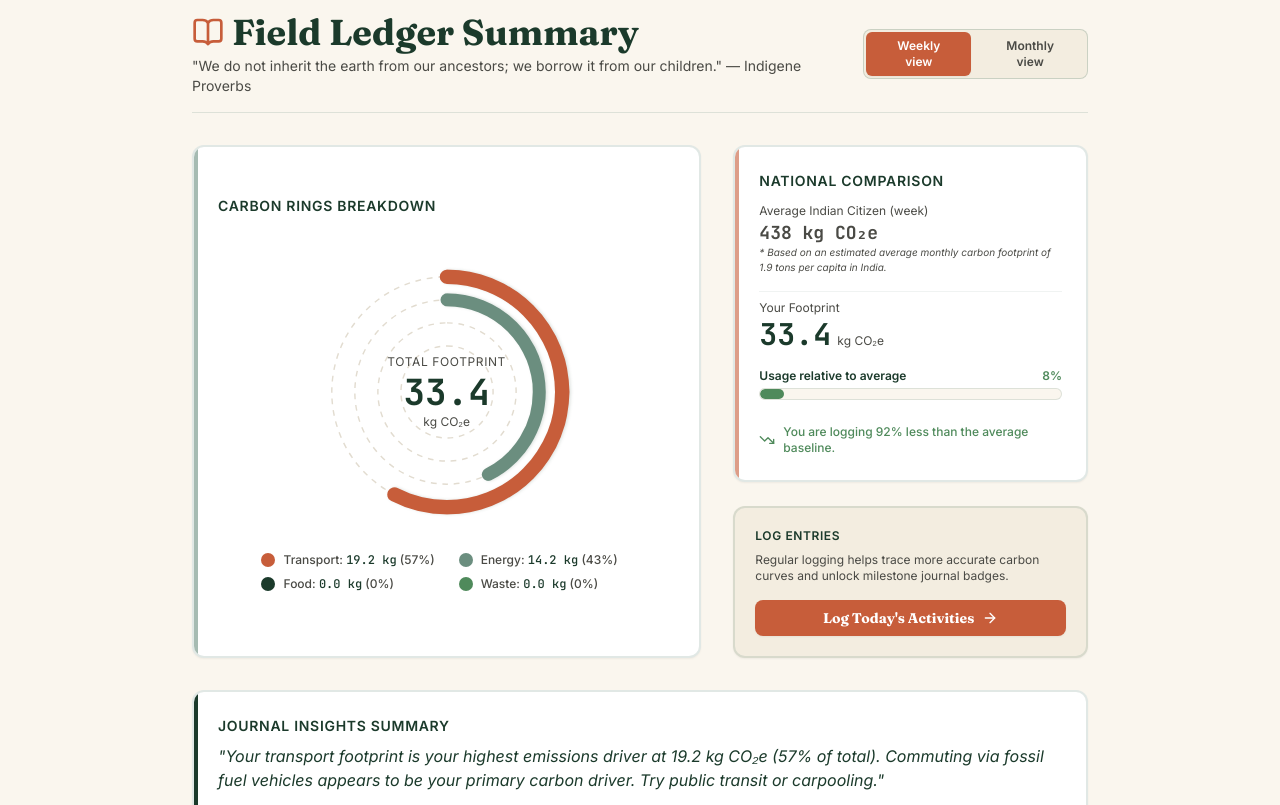
Test: Component Testing Suite › DashboardView › toggles the periods when buttons are pressed
Click the button "Monthly view" at [1030, 54], box x1=975 y1=32 x2=1085 y2=76
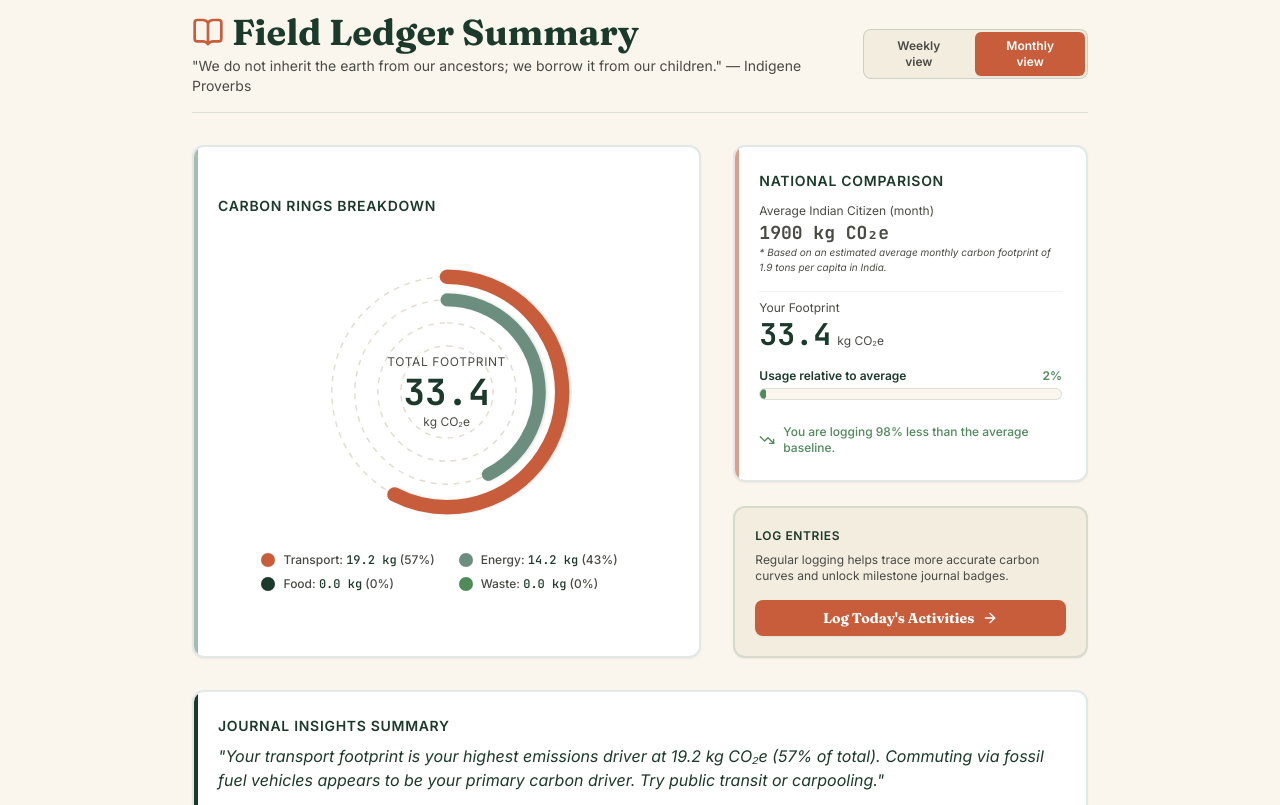
Now the text "2%" is shown, box x1=1042 y1=368 x2=1062 y2=384
